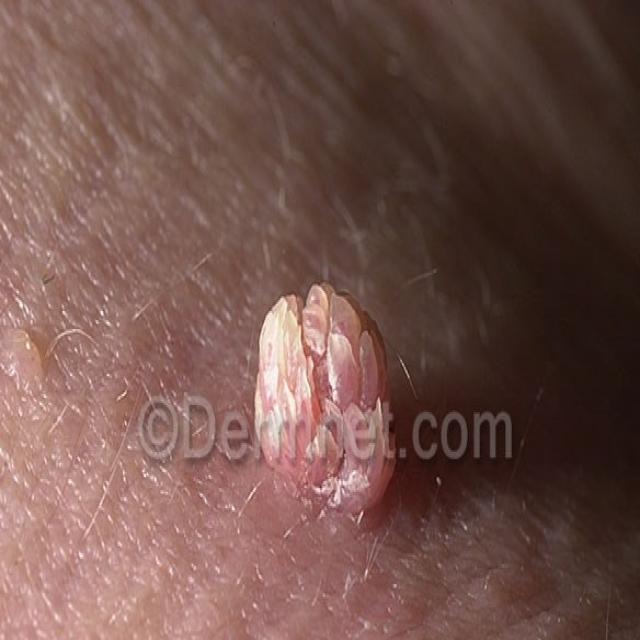Warts: (246, 272, 392, 535)
